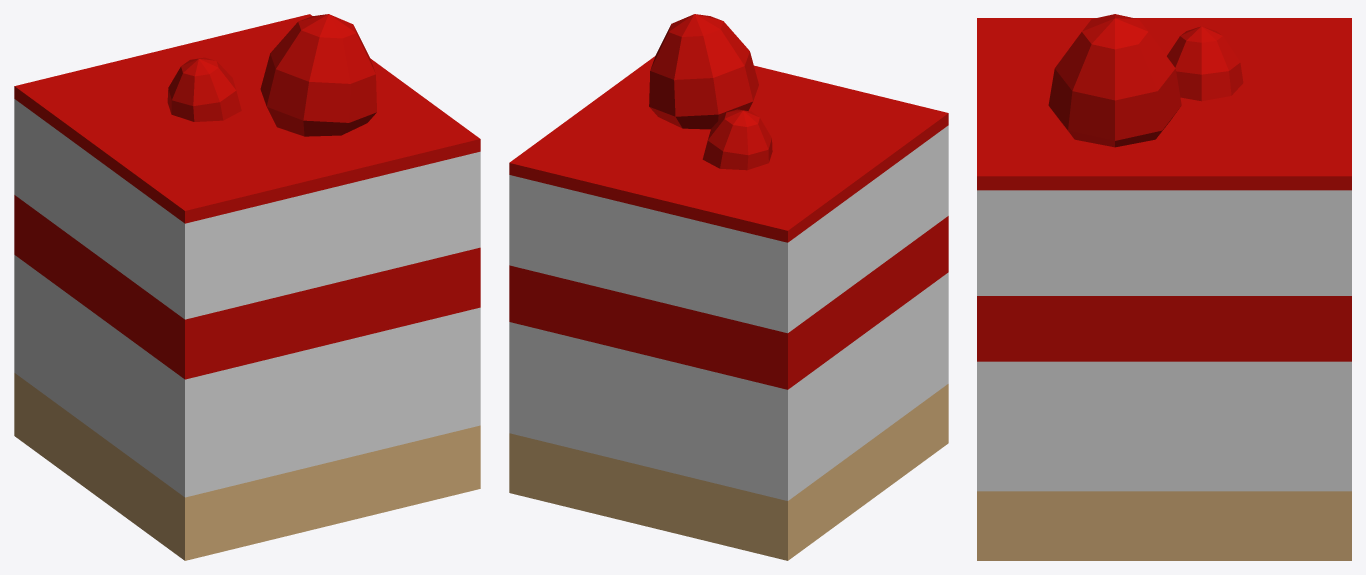
Rendered from C_Strawberry_Cake.fbx.
The picture shows the model from 3 angles, left to right: view 1: azimuth 30°, elevation 25°; view 2: azimuth 150°, elevation 25°; view 3: azimuth 270°, elevation 25°; orthographic projection. The views are drawn at different scales.
Parts seen in each view (by area): view 1: C_Strawberry_Cake; view 2: C_Strawberry_Cake; view 3: C_Strawberry_Cake.
Boxes of the visible parts, box(x1,y1,x2,y2) form: C_Strawberry_Cake: box(14, 14, 480, 560); C_Strawberry_Cake: box(509, 14, 948, 560); C_Strawberry_Cake: box(977, 14, 1351, 560).
Size of the model in its own units: 46.86 by 46.86 by 68.3.
